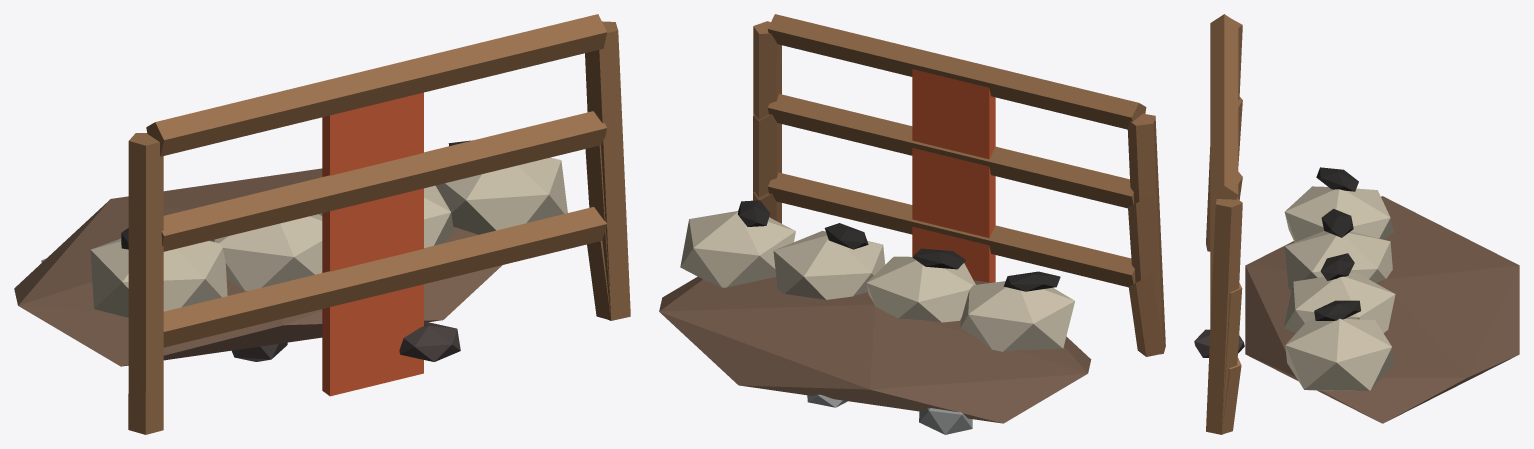
Rendered from crafting_pit_stages.glb.
3 renders of one model, left to right at view 1: azimuth 30°, elevation 25°; view 2: azimuth 150°, elevation 25°; view 3: azimuth 270°, elevation 25°, orthographic. The views are drawn at different scales.
Visible parts, largest first — view 1: Stage_Intact, Stage_Critical, Stage_Damaged; view 2: Stage_Intact, Stage_Damaged, Stage_Critical; view 3: Stage_Intact, Stage_Damaged, Stage_Critical.
Boxes of the visible parts, bbox=[...] form: Stage_Intact: bbox=[14, 14, 630, 434]; Stage_Critical: bbox=[163, 207, 610, 396]; Stage_Damaged: bbox=[161, 111, 611, 320]; Stage_Intact: bbox=[659, 14, 1165, 434]; Stage_Damaged: bbox=[753, 94, 1163, 353]; Stage_Critical: bbox=[753, 172, 1163, 356]; Stage_Intact: bbox=[1194, 14, 1519, 434]; Stage_Damaged: bbox=[1207, 97, 1242, 434]; Stage_Critical: bbox=[1207, 172, 1242, 434].
Size of what is drawn, in the model's own units: 2.43 by 1.42 by 1.67.
